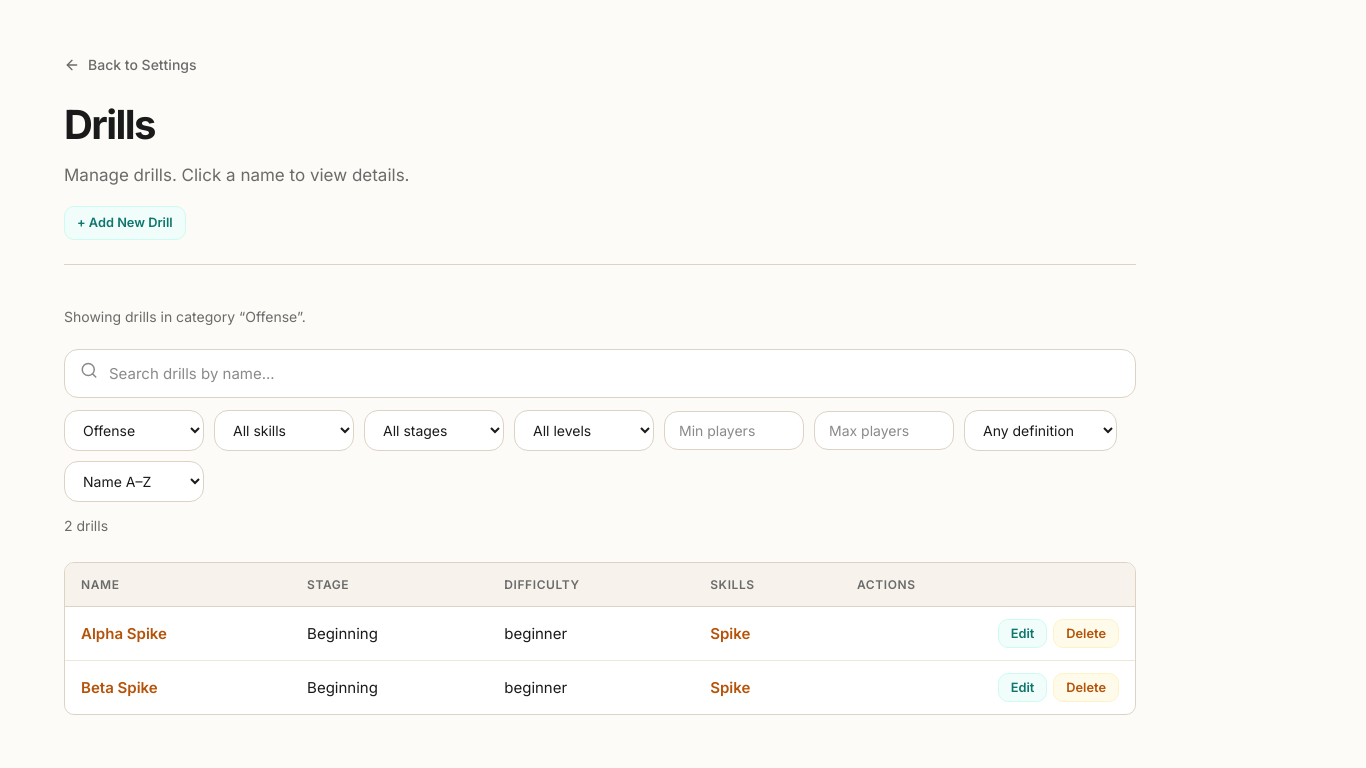
Test: settings Drills — visual definition filter › resets the definition filter back to Any definition via Clear
The width and height of the screenshot is (1366, 768).
Expected: the link "Alpha Spike" is shown, [81,624,167,643]
Select "No definition" in the dropdown named "Filter by visual definition". click: (1040, 431)
box: [964,410,1117,451]
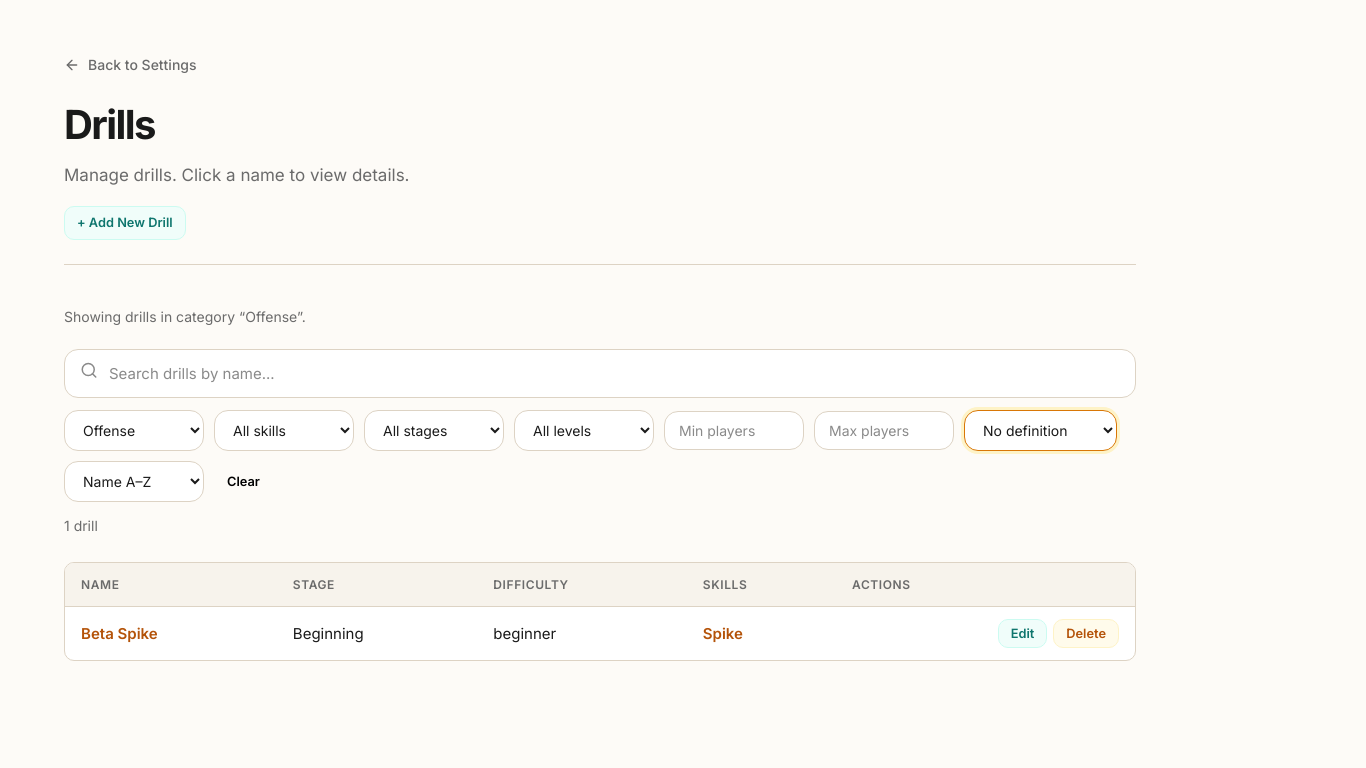
Expected: the link "Alpha Spike" is gone
Click the button "Clear". click: (243, 482)
box: [214,467,273,496]
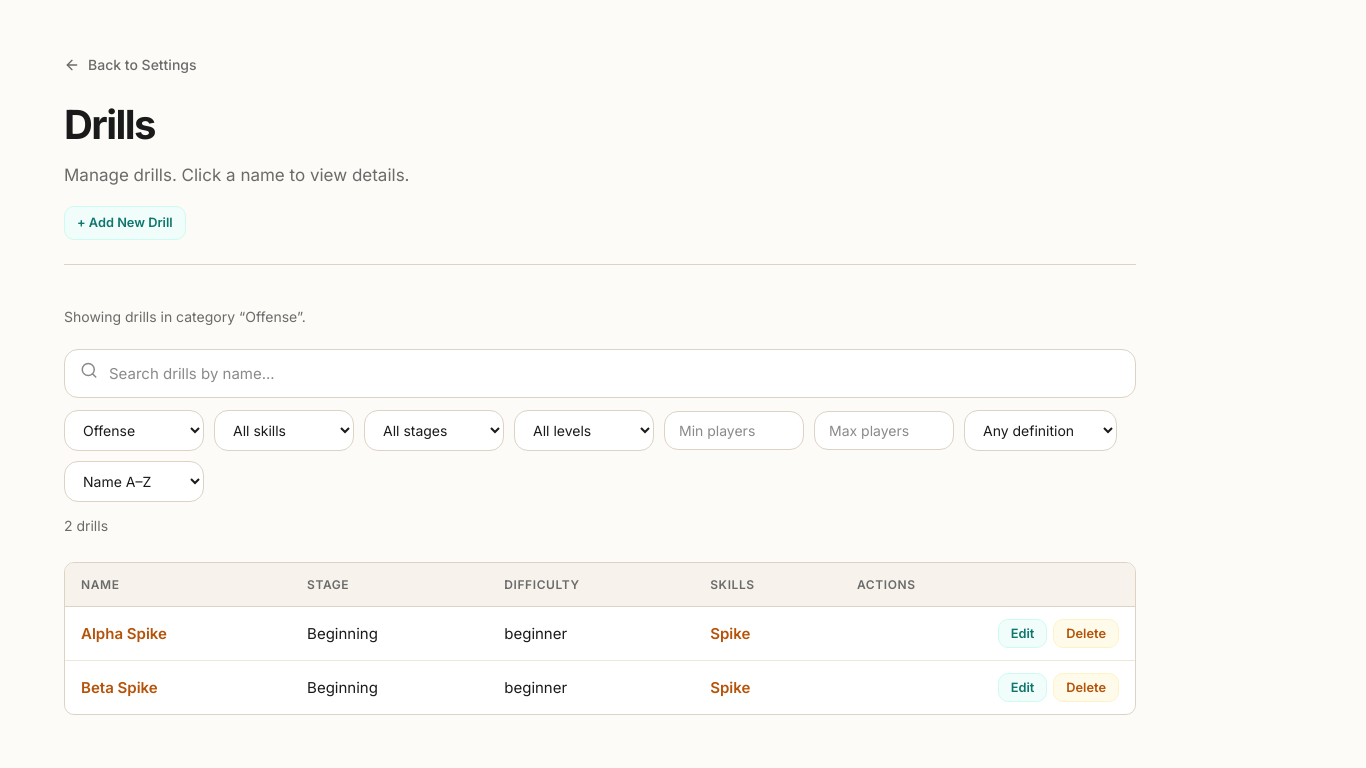
Expected: the link "Beta Spike" is shown, [81,678,158,697]
Expected: the link "Alpha Spike" is shown, [81,624,167,643]
